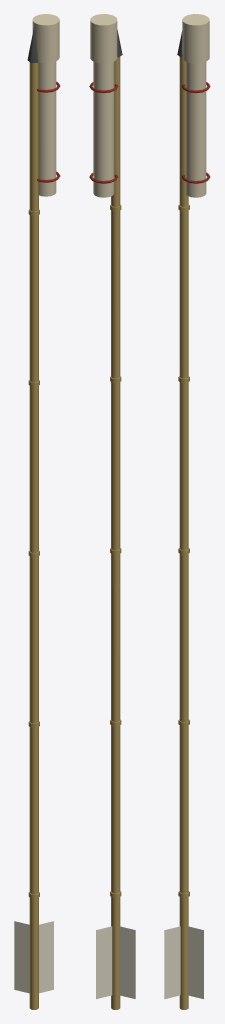
The model's file is rocket.glb.
The picture shows the model from 3 angles, left to right: view 1: azimuth 30°, elevation 25°; view 2: azimuth 210°, elevation 25°; view 3: azimuth 330°, elevation 25°; orthographic projection.
Visible parts, largest first — view 1: rocket; view 2: rocket; view 3: rocket.
Boxes of the visible parts, <box> form: rocket: <box>14,14,60,1009</box>; rocket: <box>89,14,135,1009</box>; rocket: <box>164,14,210,1009</box>.
Bounding box in the file's own units: 0.0522 × 1.43 × 0.0519.
